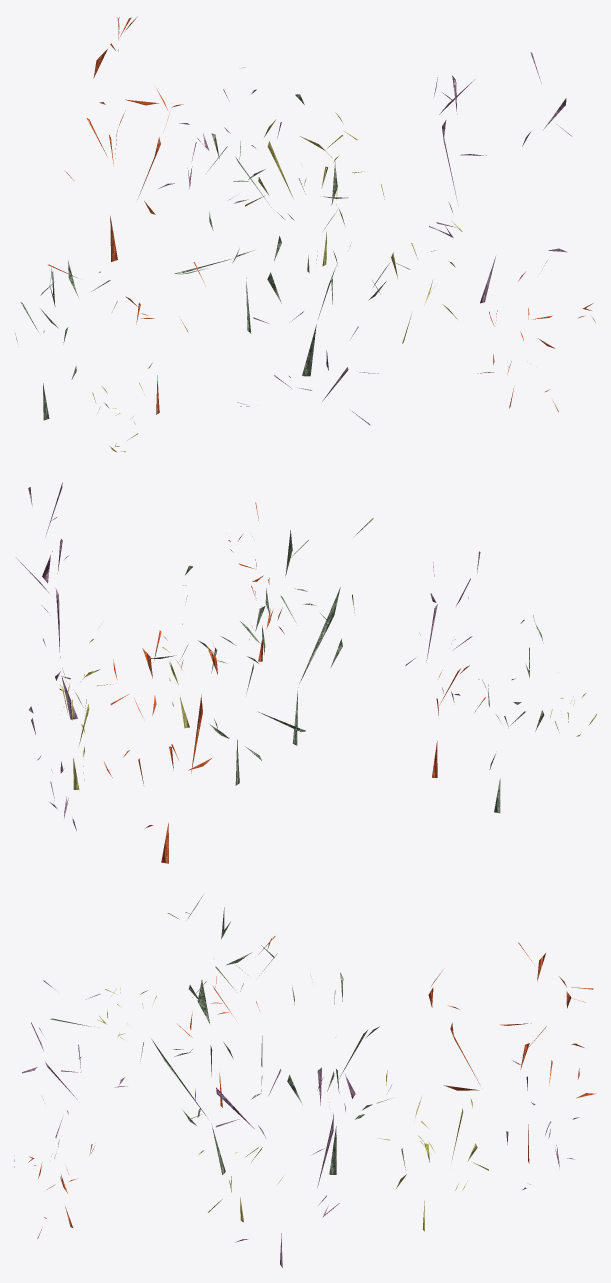
The model's file is fanmed_lo.glb.
The picture shows the model from 3 angles, top to bottom: view 1: azimuth 30°, elevation 25°; view 2: azimuth 150°, elevation 25°; view 3: azimuth 270°, elevation 25°; orthographic projection. The views are drawn at different scales.
Parts seen in each view (by area): view 1: LOD0_FanCoralSkin_White_Mat_0, LOD0_FanCoralSkin_Orange_Mat_0, LOD0_FanCoralSkin_Violet_Mat_0, LOD0_FanCoralSkin_Yellow_Mat_0; view 2: LOD0_FanCoralSkin_White_Mat_0, LOD0_FanCoralSkin_Orange_Mat_0, LOD0_FanCoralSkin_Violet_Mat_0, LOD0_FanCoralSkin_Yellow_Mat_0; view 3: LOD0_FanCoralSkin_White_Mat_0, LOD0_FanCoralSkin_Orange_Mat_0, LOD0_FanCoralSkin_Violet_Mat_0, LOD0_FanCoralSkin_Yellow_Mat_0.
Boxes of the visible parts, x1=… form: LOD0_FanCoralSkin_White_Mat_0: x1=15, y1=94, x2=410, y2=420; LOD0_FanCoralSkin_Orange_Mat_0: x1=48, y1=16, x2=595, y2=414; LOD0_FanCoralSkin_Violet_Mat_0: x1=158, y1=52, x2=572, y2=425; LOD0_FanCoralSkin_Yellow_Mat_0: x1=92, y1=112, x2=462, y2=452; LOD0_FanCoralSkin_White_Mat_0: x1=151, y1=518, x2=544, y2=813; LOD0_FanCoralSkin_Orange_Mat_0: x1=97, y1=502, x2=485, y2=863; LOD0_FanCoralSkin_Violet_Mat_0: x1=16, y1=482, x2=480, y2=830; LOD0_FanCoralSkin_Yellow_Mat_0: x1=61, y1=585, x2=596, y2=790; LOD0_FanCoralSkin_White_Mat_0: x1=50, y1=896, x2=391, y2=1174; LOD0_FanCoralSkin_Orange_Mat_0: x1=14, y1=936, x2=596, y2=1238; LOD0_FanCoralSkin_Violet_Mat_0: x1=22, y1=980, x2=579, y2=1267; LOD0_FanCoralSkin_Yellow_Mat_0: x1=94, y1=988, x2=488, y2=1231.
Bounding box in the file's own units: 0.121 × 0.054 × 0.1265.
Materials: 4 (4 with a texture image).
